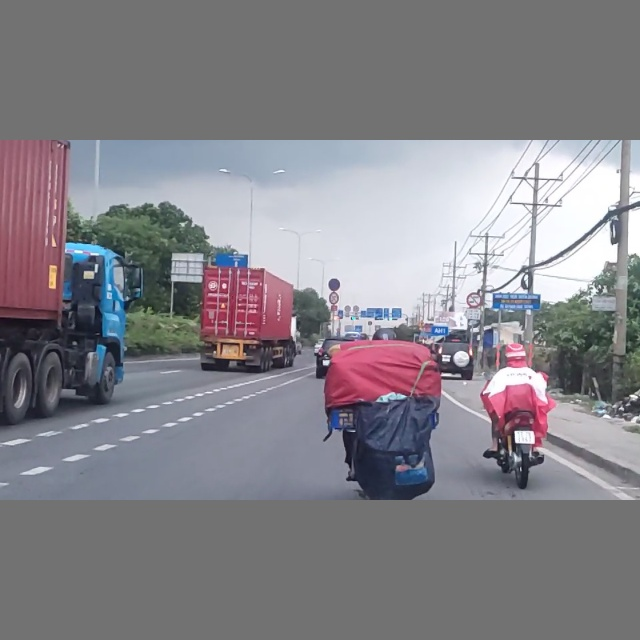P.107: (467, 292, 482, 308)
P.111: (329, 292, 339, 305)
P.130: (327, 277, 341, 291)
